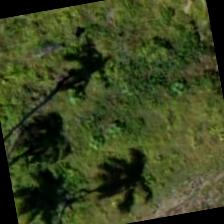Kelapa_Sawit: (140, 0, 211, 40)
